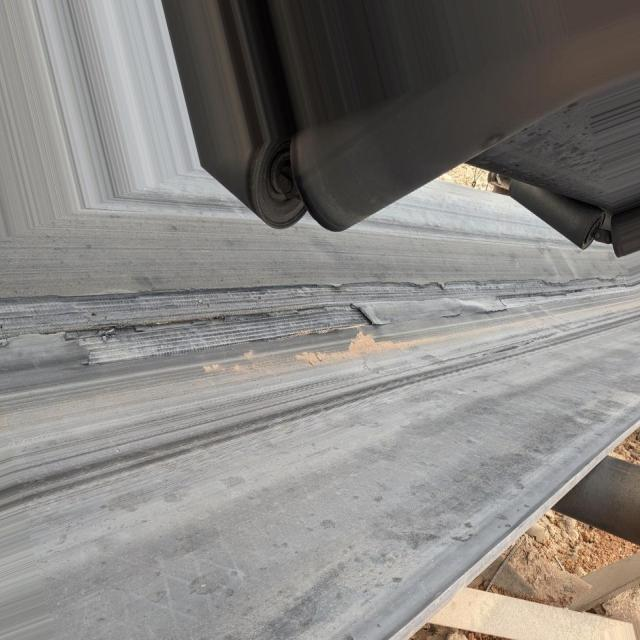Tear: (1, 272, 636, 366)
